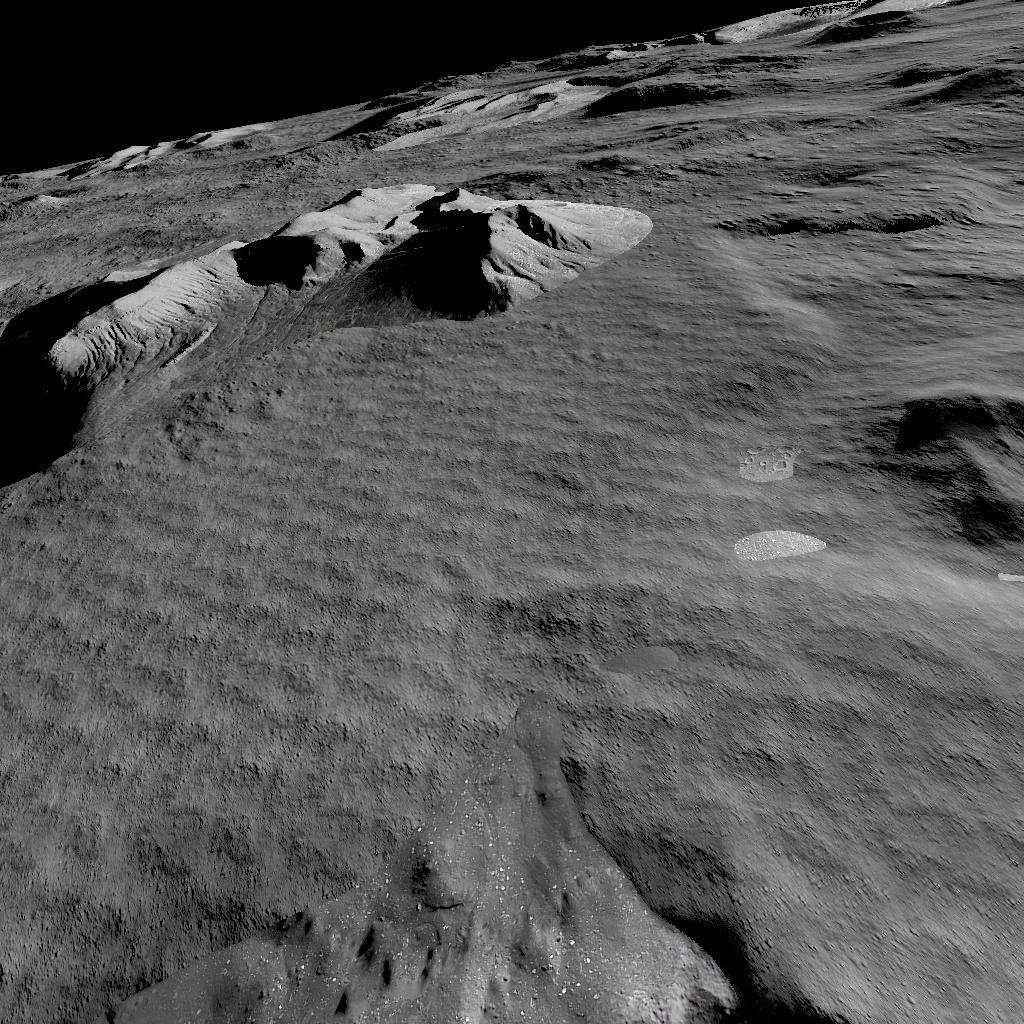Boulders: (0, 188, 650, 480), (341, 0, 925, 145), (36, 120, 290, 175)
Crater: (0, 835, 1024, 1024), (901, 380, 1024, 573), (706, 200, 975, 245)
Plan surface: (0, 495, 888, 823)
